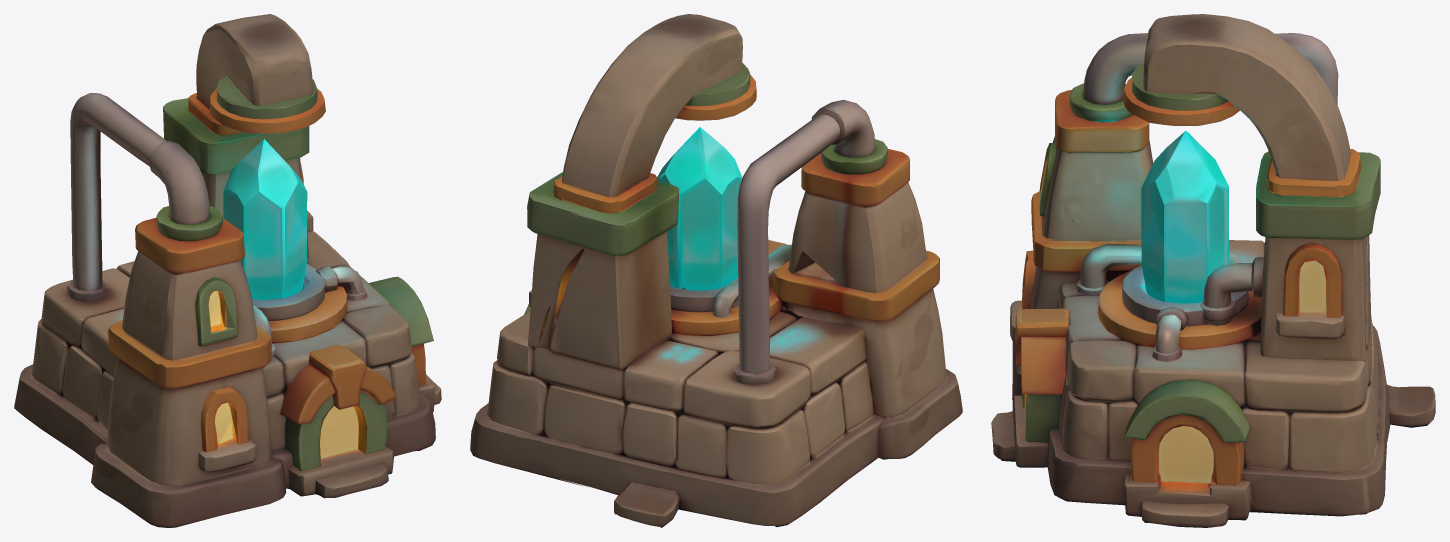
File: GLD_ Magic Potion_building.fbx
3 views of the same model, side by side, from view 1: azimuth 30°, elevation 25°; view 2: azimuth 150°, elevation 25°; view 3: azimuth 270°, elevation 25° (orthographic). The views are drawn at different scales.
Visible parts, largest first — view 1: Galwadore_Magic; view 2: Galwadore_Magic; view 3: Galwadore_Magic.
Part boxes in pixels (x1=…): Galwadore_Magic: x1=14, y1=14, x2=441, y2=527; Galwadore_Magic: x1=470, y1=14, x2=962, y2=527; Galwadore_Magic: x1=991, y1=14, x2=1435, y2=527.
Bounding box in the file's own units: 161 × 169 × 162.
Materials: 1 (1 with a texture image).
